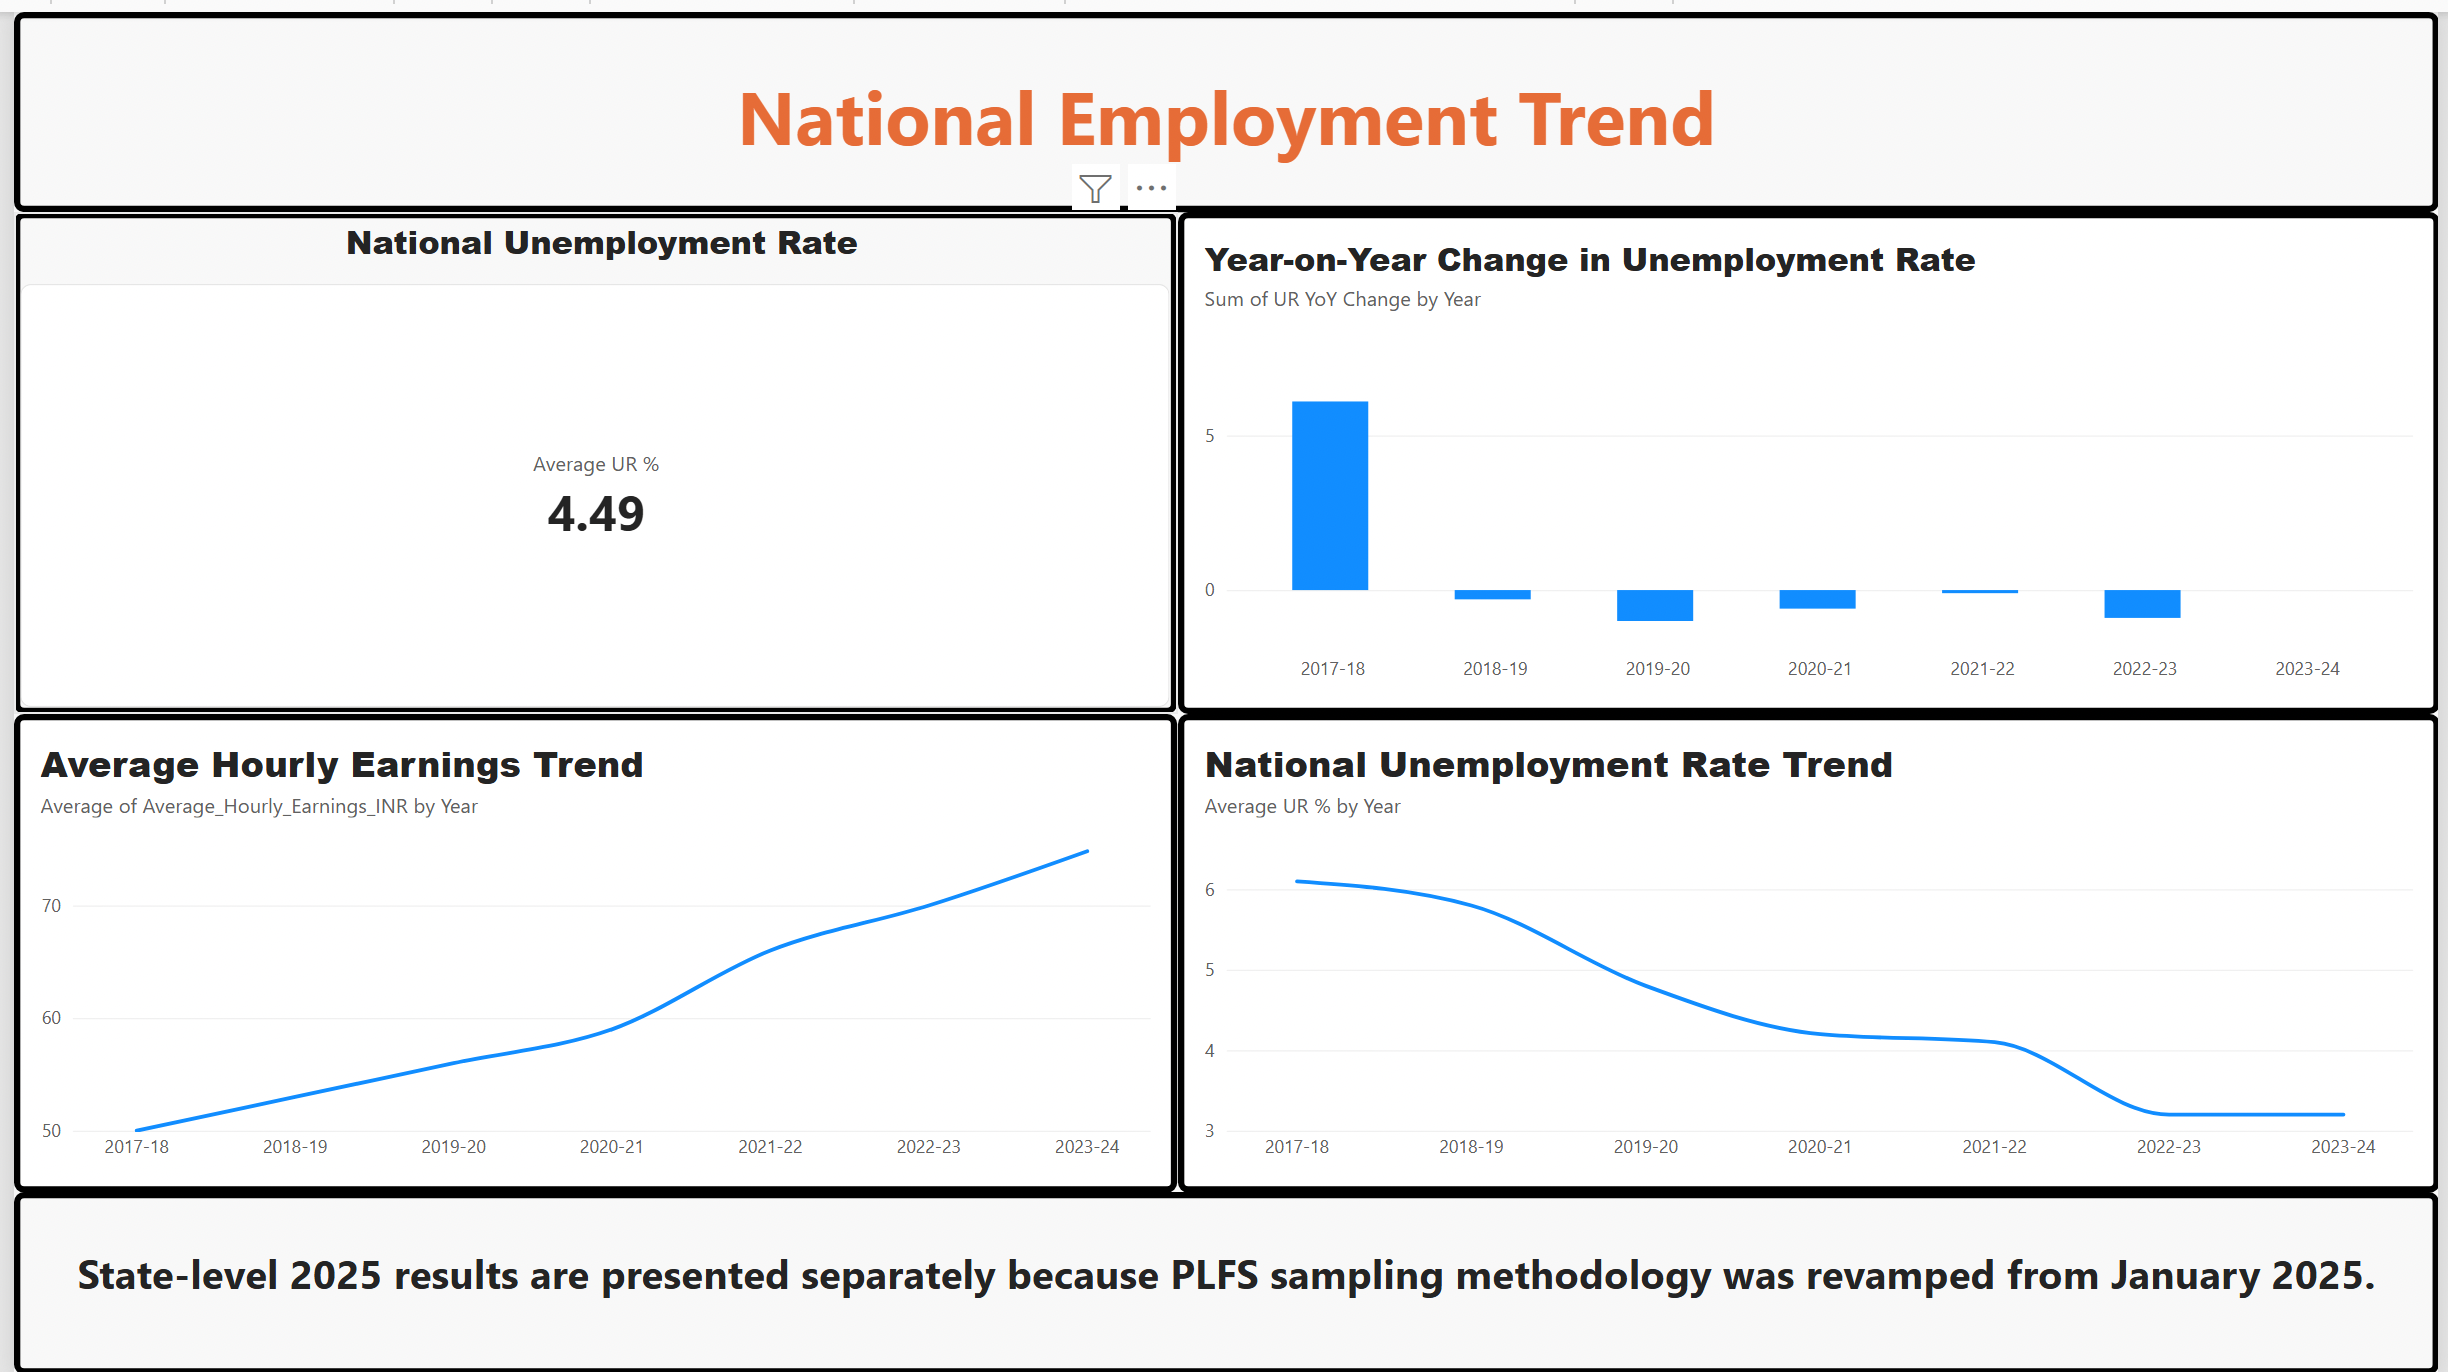

What the dashboard file says about the page in this screenshot:
{"tool":"powerbi","page":{"name":"National Trend","canvas":[1920,1080],"ordinal":3},"visuals":[{"type":"lineChart","title":"National Unemployment Rate Trend","fields":{"Y":["National_Trend.Average UR %"],"Category":["National_Trend.Year"]},"box":[921,555.8,999,378.9],"z":0},{"type":"textbox","box":[0,0,1920,158.5],"z":1000},{"type":"lineChart","title":"Average Hourly Earnings Trend","fields":{"Y":["Avg(National_Trend.Average_Hourly_Earnings_INR)"],"Category":["National_Trend.Year"]},"box":[0,555.8,921,378.9],"z":2000},{"type":"cardVisual","title":"National Unemployment Rate","fields":{"Data":["National_Trend.Average UR %"]},"box":[0,158.5,921,397.3],"z":3000},{"type":"textbox","box":[0,934.7,1920,144.7],"z":5000},{"type":"clusteredColumnChart","title":"Year-on-Year Change in Unemployment Rate","fields":{"Category":["National_Trend.Year"],"Y":["Sum(National_Trend.UR YoY Change)"]},"box":[921,158.5,999,397.3],"z":5001}]}

Visuals, with their boxes in screenshot pixels (x1, y1, x2, y2), scaled from the page's 1920x1080 canvas onto the 2448x1372 screenshot:
"National Unemployment Rate Trend" lineChart: BBox(1174, 706, 2447, 1187)
textbox: BBox(0, 0, 2447, 201)
"Average Hourly Earnings Trend" lineChart: BBox(0, 706, 1174, 1187)
"National Unemployment Rate" cardVisual: BBox(0, 201, 1174, 706)
textbox: BBox(0, 1187, 2447, 1371)
"Year-on-Year Change in Unemployment Rate" clusteredColumnChart: BBox(1174, 201, 2447, 706)
